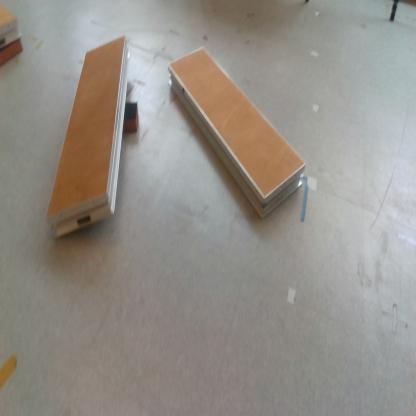Stairs: (168, 47, 308, 222), (47, 35, 133, 241), (1, 7, 22, 46)
